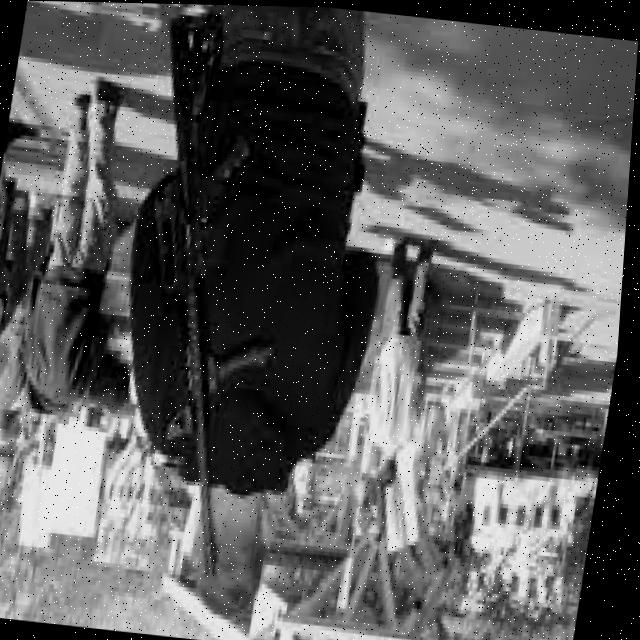firearm: (95, 7, 328, 578)
